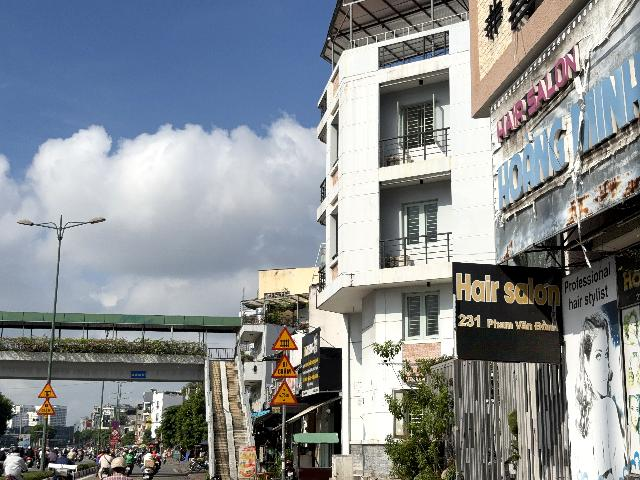chieu-cao-tinh-khong-thuc-te: (270, 380, 298, 405)
di-cham: (270, 353, 298, 378), (37, 398, 56, 415)
noi-giao-nhau-voi-duong-sat-co-rao-chan: (271, 326, 299, 350), (38, 381, 57, 398)
